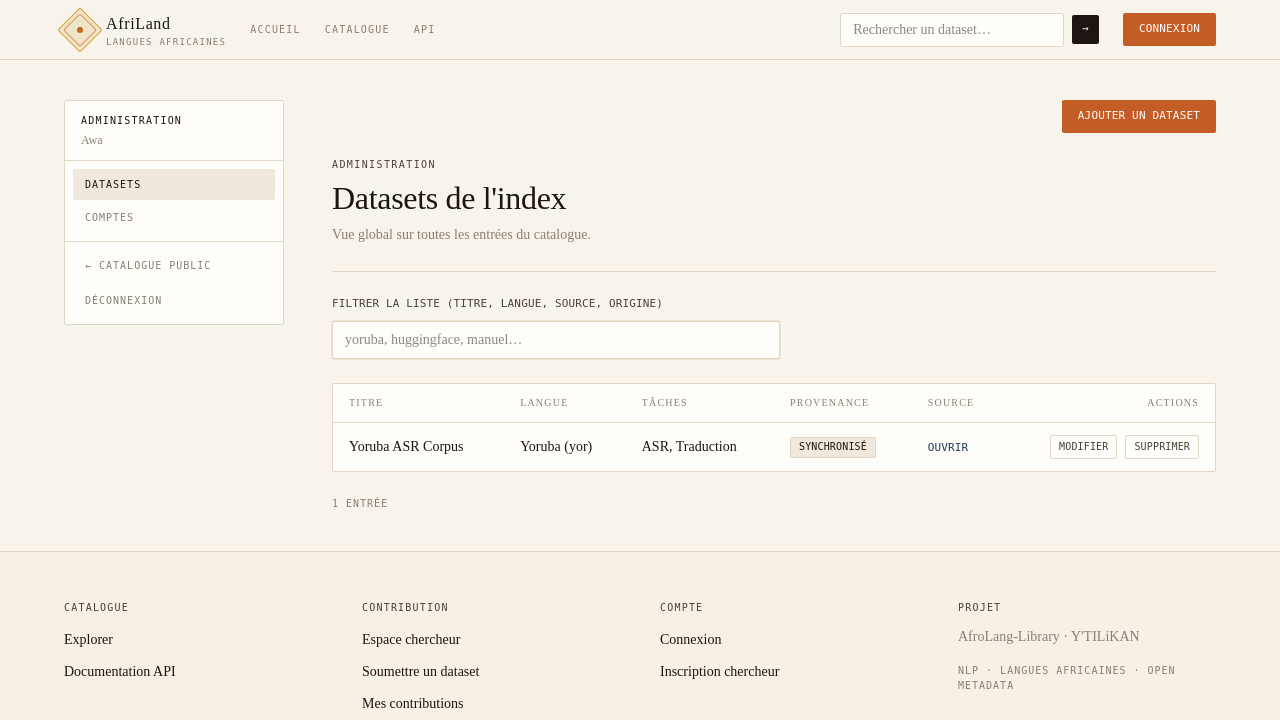
Test: DatasetAdminPanel (Story 4.3) › avertit qu'une saisie de tâche remplace les tâches multiples
This screenshot has width=1280, height=720.
Click the button with aria-label "Modifier Yoruba ASR Corpus" at (1084, 447), box [1050,435,1118,459]
(page scrolled)
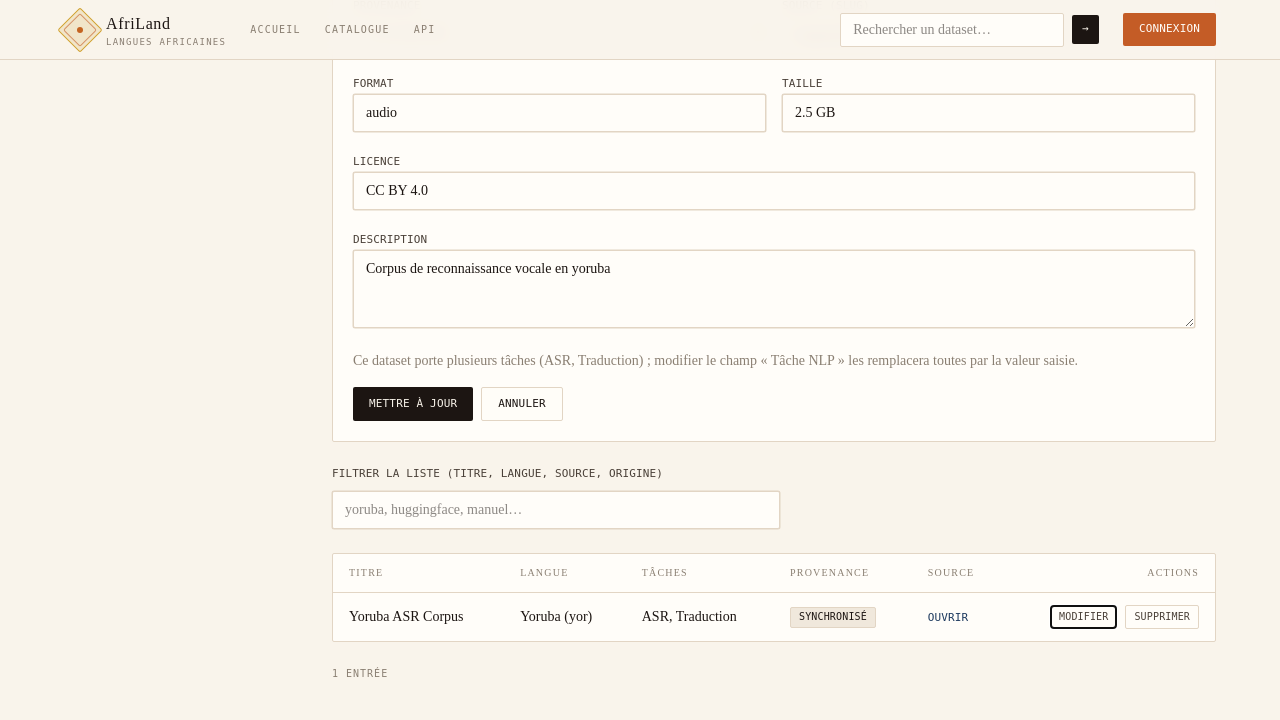
Check: the text "plusieurs tâches (ASR, Traduction)" is shown, box [353,350,1195,370]
